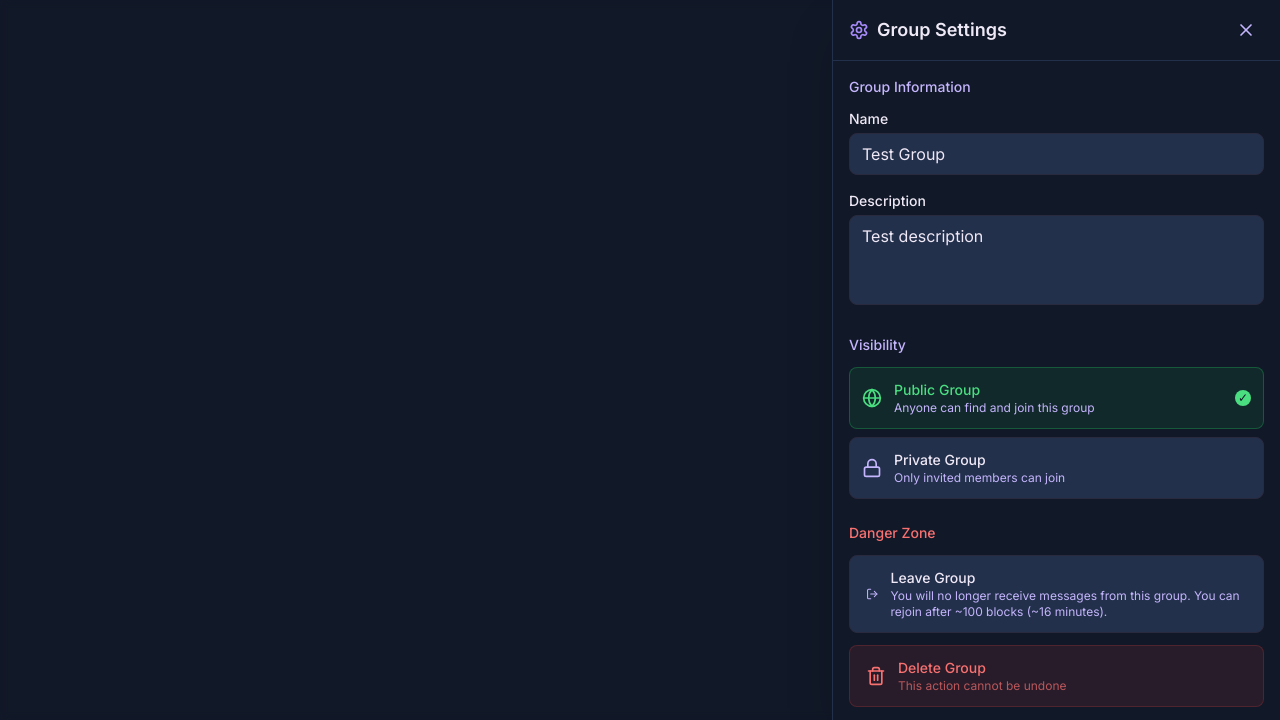
GroupSettingsPanel › Leave Group › should close confirmation when Cancel is clicked
// Open dialog
Click the button "Leave Group": (1056, 594) [849,555,1264,633]
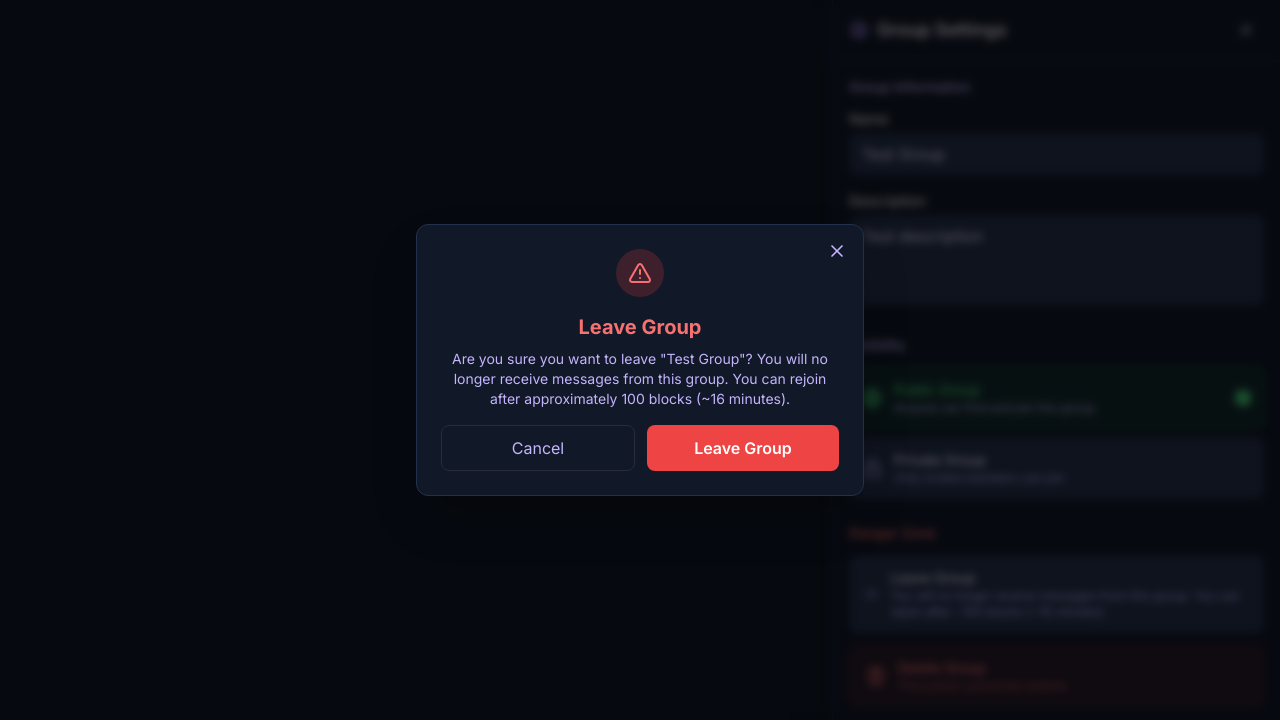
// Click cancel
Click the button "Cancel": (538, 448) [441,425,635,471]
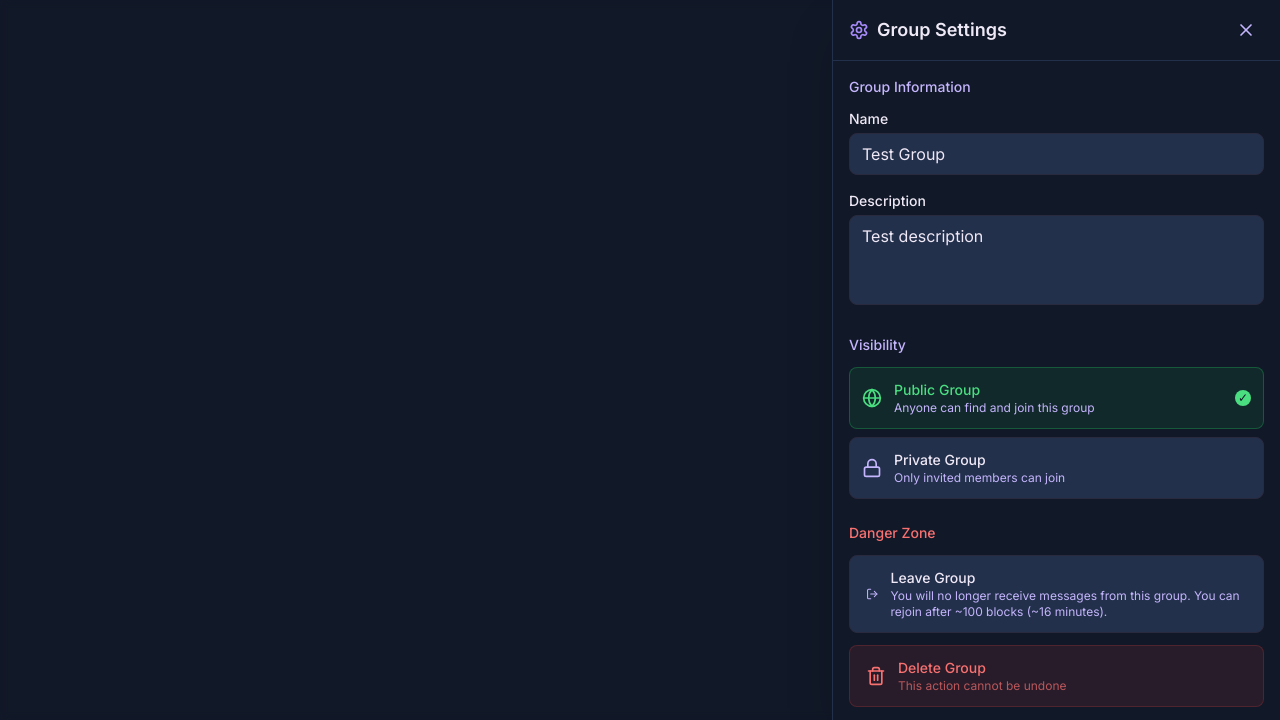
Expected: the text "Are you sure you want to leave" is gone
